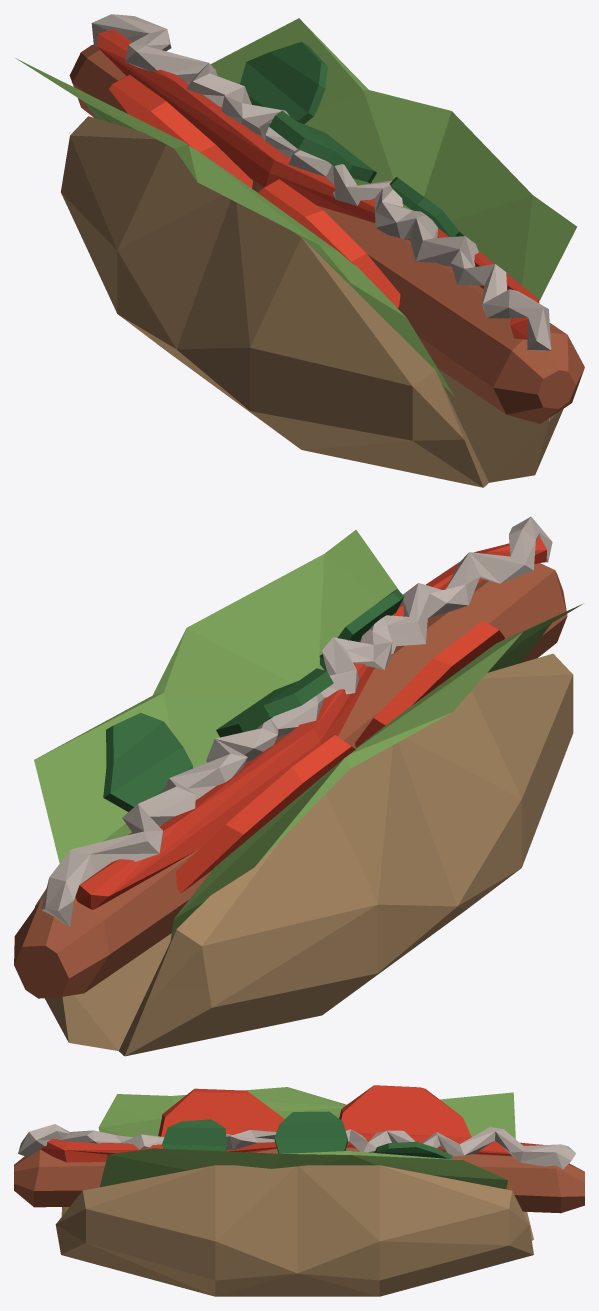
File: Hot_Dog.fbx
3 views of the same model, one above another, from view 1: azimuth 30°, elevation 25°; view 2: azimuth 150°, elevation 25°; view 3: azimuth 270°, elevation 25° (orthographic). The views are drawn at different scales.
Parts seen in each view (by area): view 1: SM_Hot_Dog; view 2: SM_Hot_Dog; view 3: SM_Hot_Dog.
Boxes of the visible parts, bbox=[...] form: SM_Hot_Dog: bbox=[14, 14, 584, 487]; SM_Hot_Dog: bbox=[14, 516, 583, 1056]; SM_Hot_Dog: bbox=[14, 1085, 584, 1296].
Size of the model in its own units: 5.89 by 5.51 by 16.67.
1 material, 1 textured.
